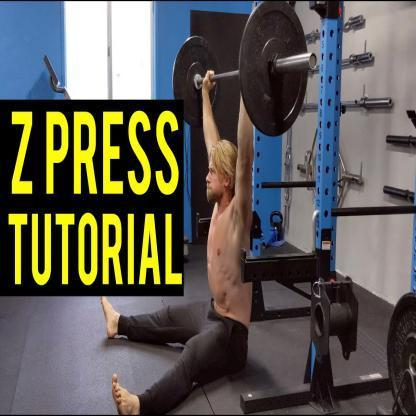barbell: (174, 1, 317, 135)
